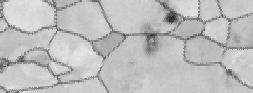good_void: (142, 25, 164, 57), (160, 9, 179, 26), (225, 65, 235, 78), (231, 32, 241, 45), (127, 60, 136, 65)
